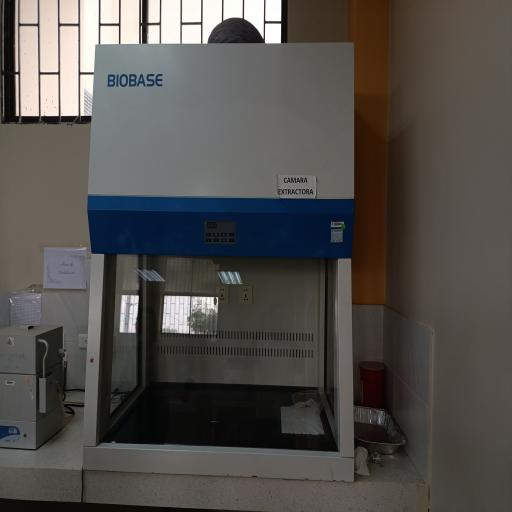Camara_Extractora_Biobase: (76, 34, 366, 497)
